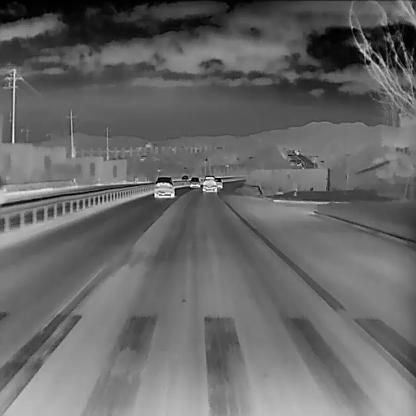car: (152, 174, 176, 197), (202, 174, 217, 192), (189, 174, 200, 188), (213, 176, 223, 188), (180, 173, 188, 182)
